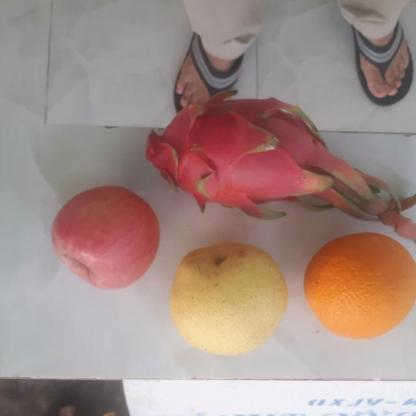apple: (47, 186, 158, 290)
orange: (301, 234, 415, 344)
pear: (163, 246, 291, 355)
pitaya: (136, 100, 324, 217)
